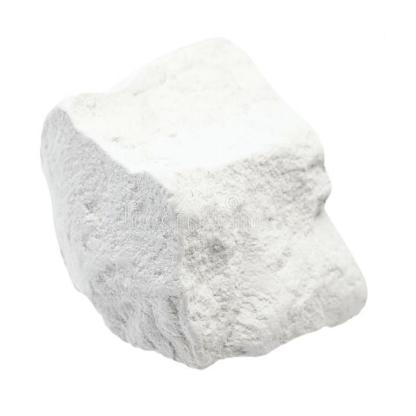Sedimentary_Chalk: (30, 41, 379, 369)
